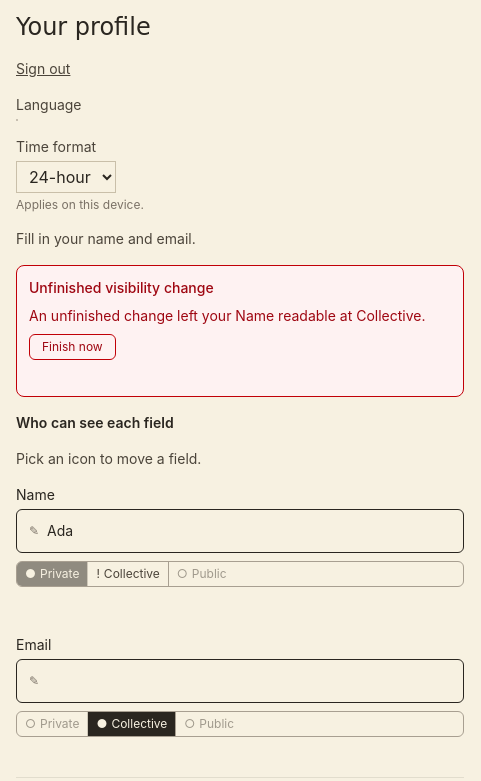
Scenario: #257 — repair confirmation announcement (profile_repair_done) › fail THEN succeed in one flow: failure shows profile_repair_error (no done announcement); the successful retry announces profile_repair_done and the banner unmo
Expected: the message with test id "profile-visibility-repair-name" is shown, [16,265,464,397]
Click the button with test id "profile-visibility-repair-name-fix". click: (72, 347)
box: [29,334,116,360]
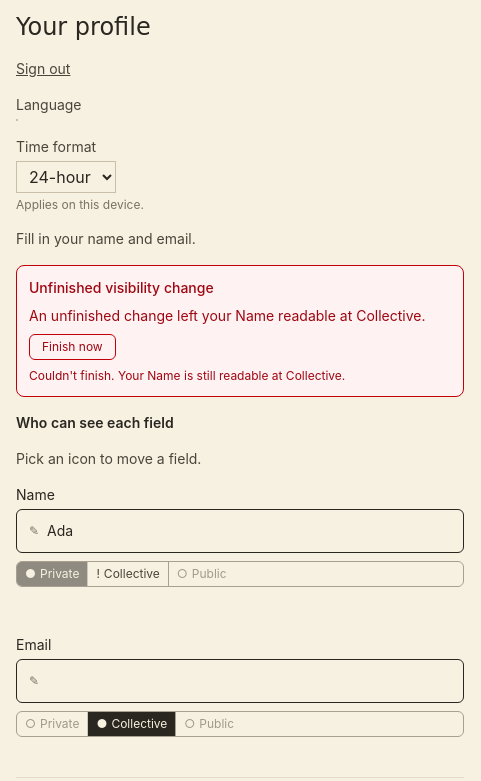
Expected: the message with test id "profile-visibility-repair-name" is shown, [16,265,464,397]
Result: the text with test id "profile-visibility-repair-name-error" reads "Couldn't finish. Your Name is still readable at Collective." at [29,368,345,383]
Click the button with test id "profile-visibility-repair-name-fix". click: (72, 347)
box: [29,334,116,360]
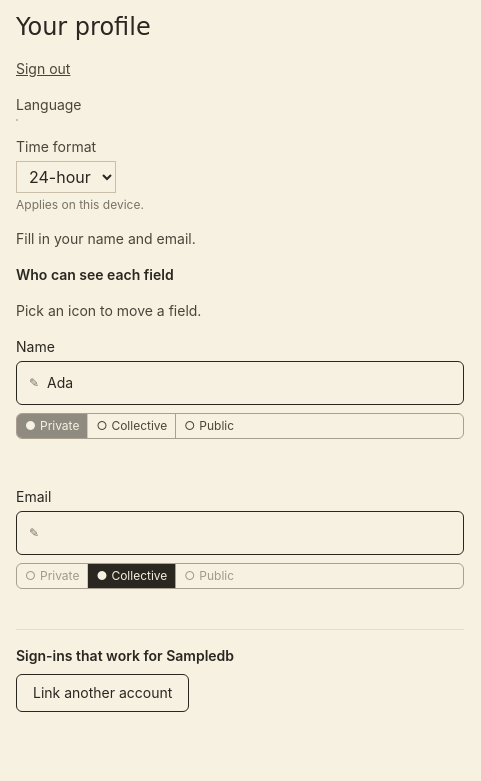
Result: the message with test id "profile-visibility-repair-name" is gone
